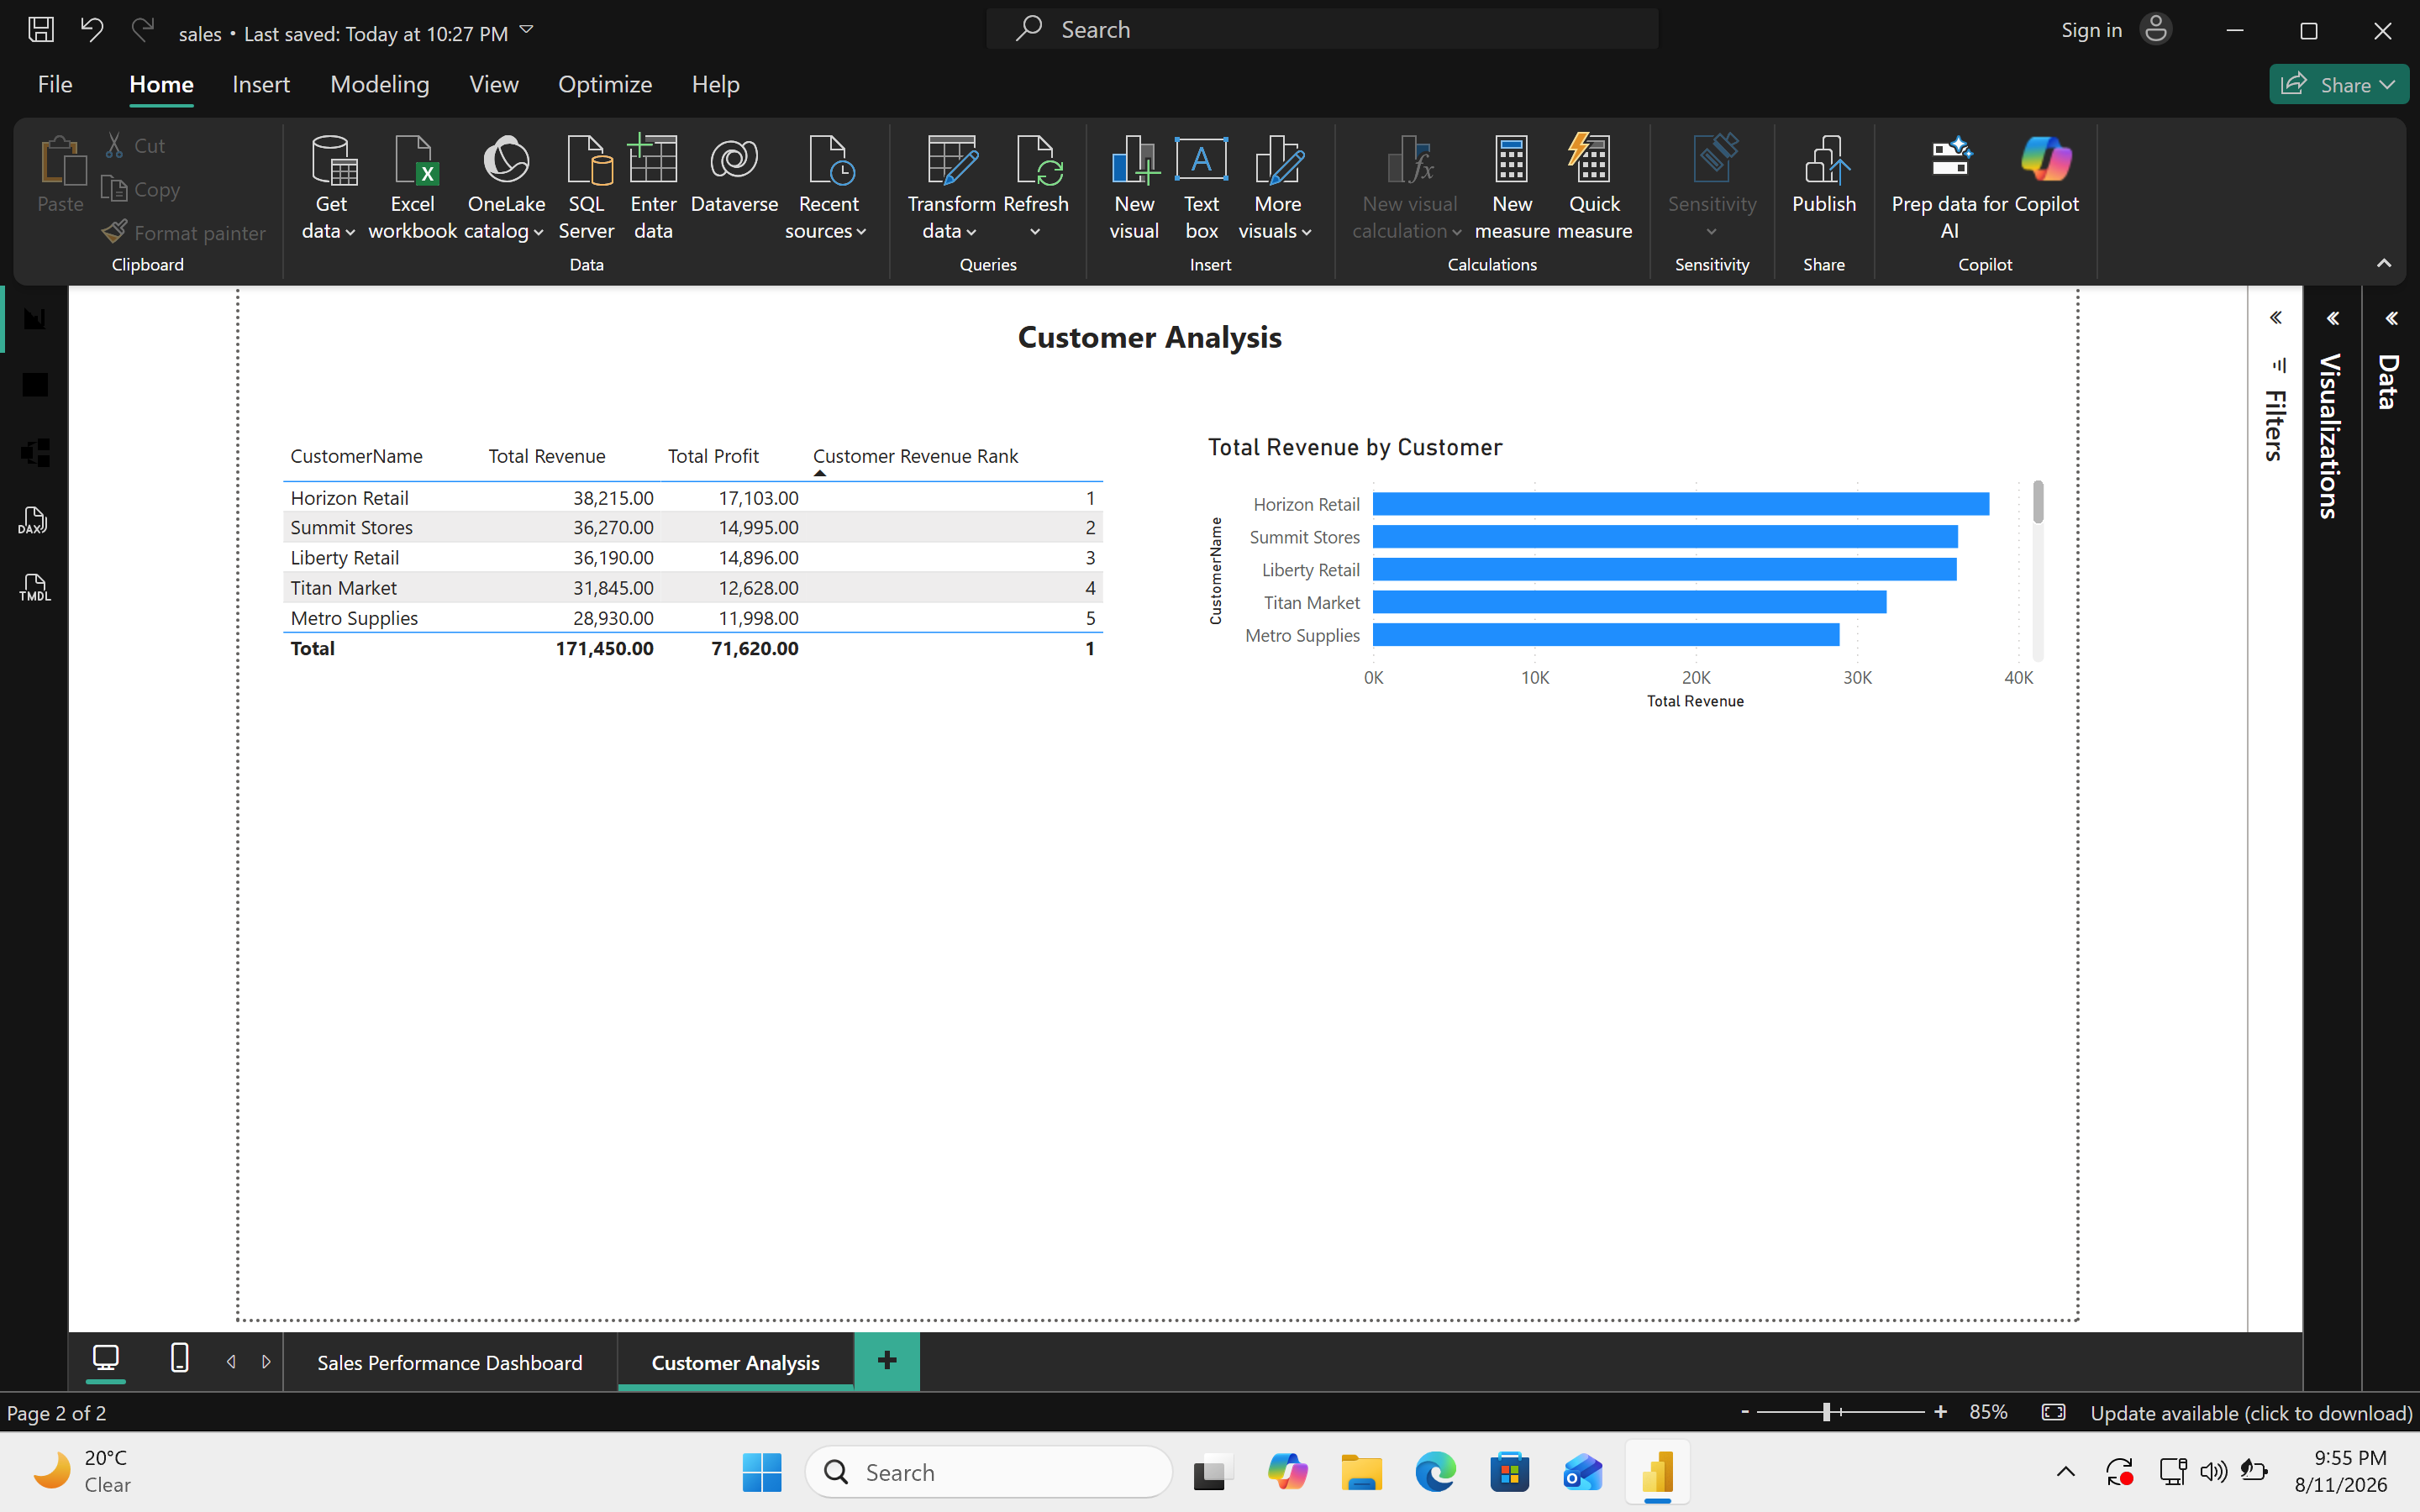

This screenshot's page, from the dashboard's own definition file:
{"tool":"powerbi","page":{"name":"Customer Analysis","canvas":[1280,720],"ordinal":1},"visuals":[{"type":"textbox","box":[537.4,15.3,203.6,45.9],"z":0},{"type":"tableEx","fields":{"Values":["Customers.CustomerName","Sales.Total Revenue","Sales.Total Profit","Sales.Customer Revenue Rank"]},"box":[24.5,102.6,592.5,197.5],"z":1},{"type":"barChart","title":"Total Revenue by Customer","fields":{"Category":["Customers.CustomerName"],"Y":["Sales.Total Revenue"]},"box":[669.1,102.6,592.5,197.5],"z":2}]}

Visuals, with their boxes on the page's 1280x720 design canvas (x1, y1, x2, y2). These are canvas units, not pixel positions in the 2420x1512 screenshot, which may show the page scaled, cropped or inside an application window:
textbox: Rect(537, 15, 741, 61)
tableEx - Customers.CustomerName x Sales.Total Revenue: Rect(24, 103, 617, 300)
"Total Revenue by Customer" barChart: Rect(669, 103, 1262, 300)
